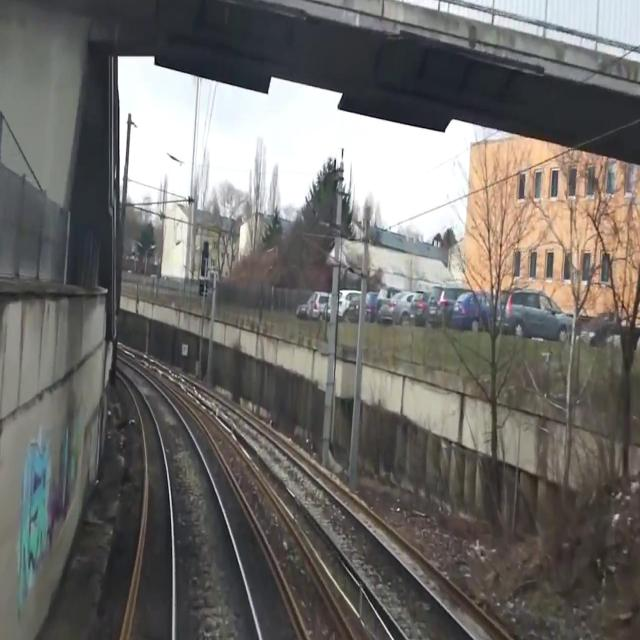rail-track: (163, 370, 469, 639), (116, 359, 257, 639)
